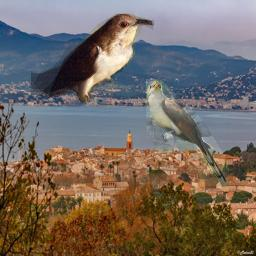Cuckoo: (31, 13, 154, 102), (146, 79, 229, 186)
